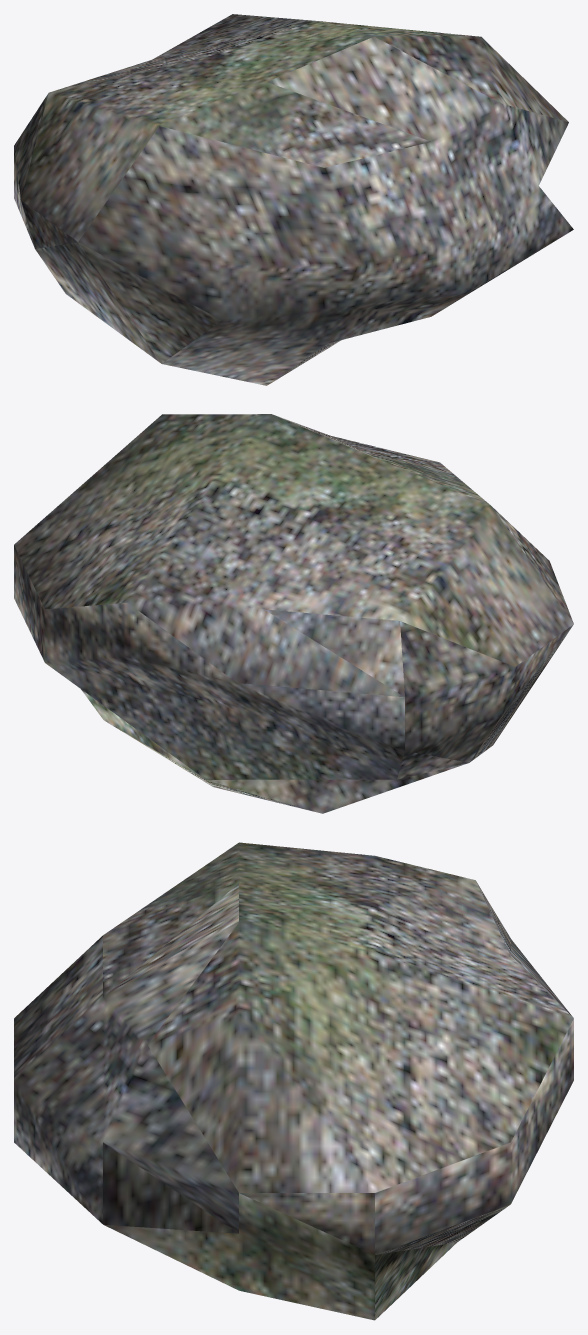
The model's file is rock.fbx.
The picture shows the model from 3 angles, top to bottom: view 1: azimuth 30°, elevation 25°; view 2: azimuth 150°, elevation 25°; view 3: azimuth 270°, elevation 25°; orthographic projection. The views are drawn at different scales.
Visible parts, largest first — view 1: Mesh; view 2: Mesh; view 3: Mesh.
Boxes of the visible parts, bbox=[...] form: Mesh: bbox=[14, 14, 573, 385]; Mesh: bbox=[14, 414, 573, 813]; Mesh: bbox=[14, 842, 573, 1320].
Size of the model in its own units: 9.61 by 6.04 by 8.02.
1 material, 1 textured.
